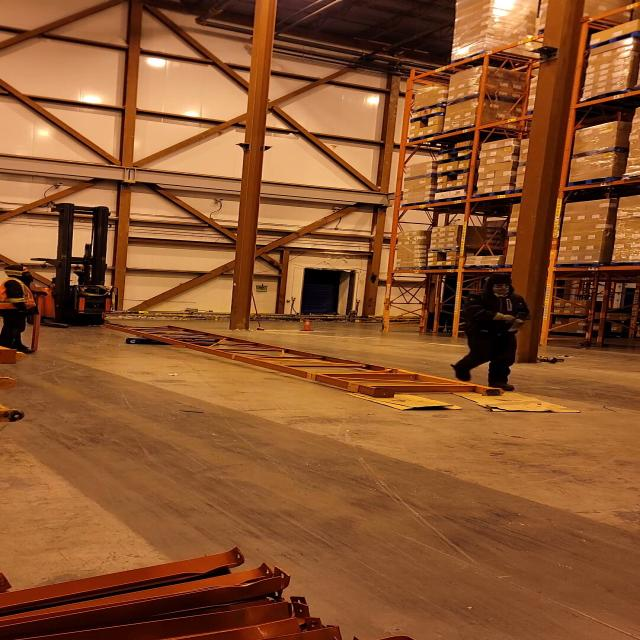forklift: (27, 206, 133, 329)
human: (447, 276, 534, 392), (0, 264, 51, 354)
objectofinterest: (96, 323, 510, 400), (444, 386, 587, 415), (344, 389, 470, 413), (122, 333, 177, 347)
